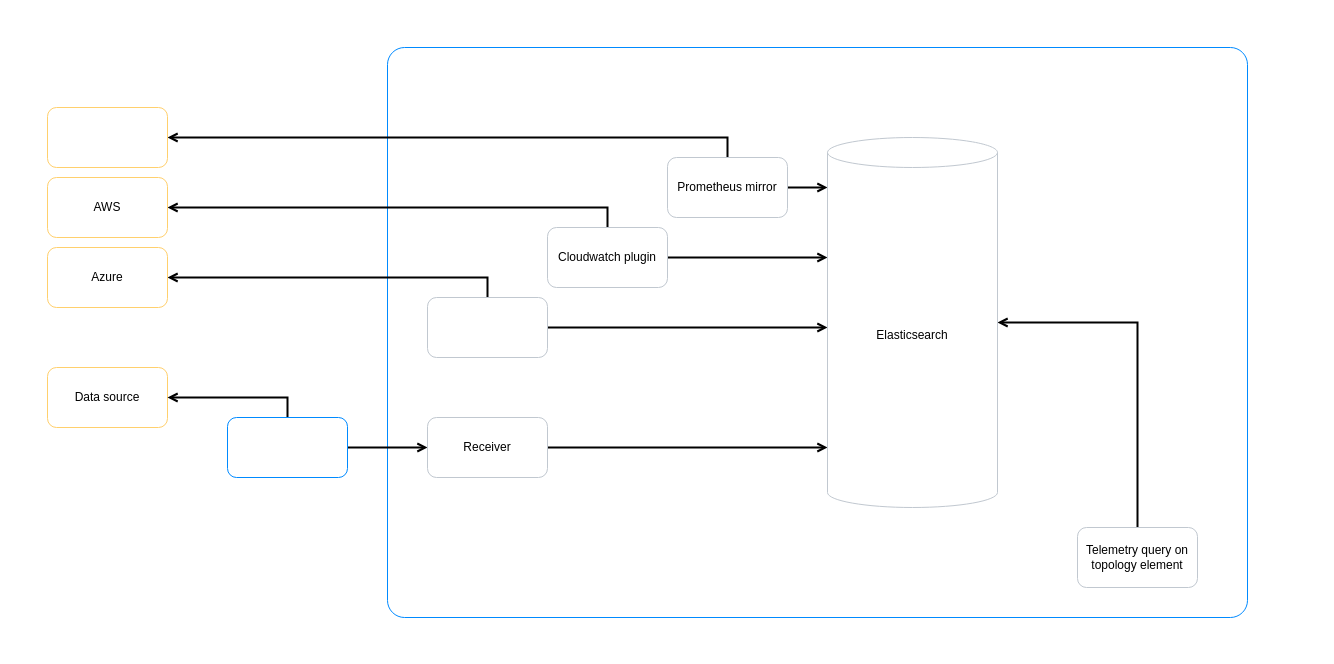
The diagram is 1334 pixels wide and 664 high, and some of its shapes have lost their labels. The shapes that lost their labels are listed below. From the top down, each one's box as (x1, y1, x2, y2) in pixels, then its label:
(46, 106, 168, 168): Prometheus
(426, 296, 548, 358): Azure plugin
(386, 46, 1248, 618): StackState
(226, 416, 348, 478): StackState Agent
